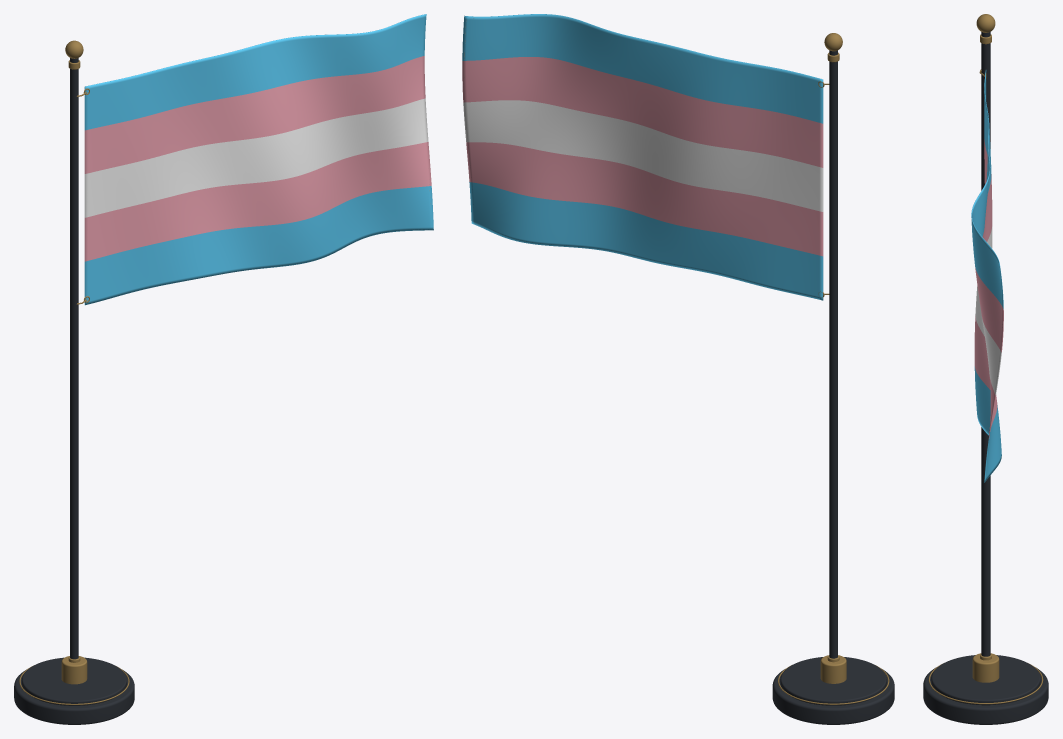
The model's file is bandeira_trans.glb.
3 renders of one model, left to right at view 1: azimuth 30°, elevation 25°; view 2: azimuth 150°, elevation 25°; view 3: azimuth 270°, elevation 25°, orthographic. The views are drawn at different scales.
Parts seen in each view (by area): view 1: Bandeira Trans.001; view 2: Bandeira Trans.001; view 3: Bandeira Trans.001.
Part boxes in pixels (box(x1,y1,x2,y2)): Bandeira Trans.001: box(14, 14, 433, 724); Bandeira Trans.001: box(462, 14, 894, 724); Bandeira Trans.001: box(923, 14, 1048, 724).
Size of the model in its own units: 1.3 by 1.99 by 0.33.
